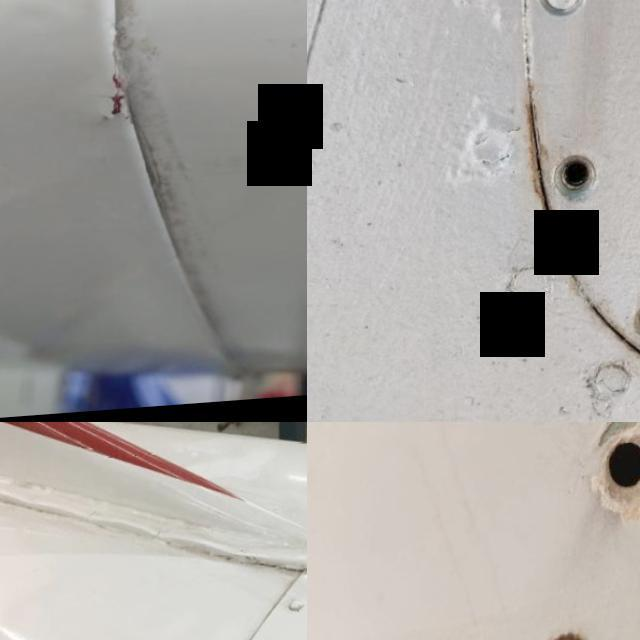Crack: (51, 34, 162, 160), (176, 515, 307, 600), (72, 503, 166, 562)
Missing_Fastener: (529, 142, 618, 232), (615, 283, 640, 368), (603, 444, 640, 499)
